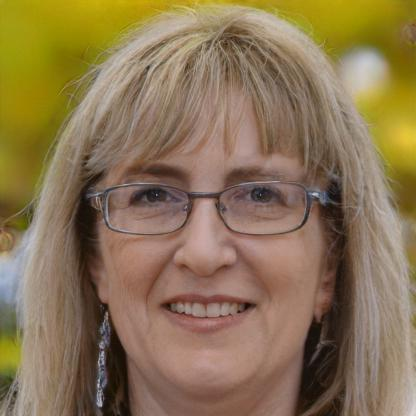glasses: (92, 178, 318, 240)
